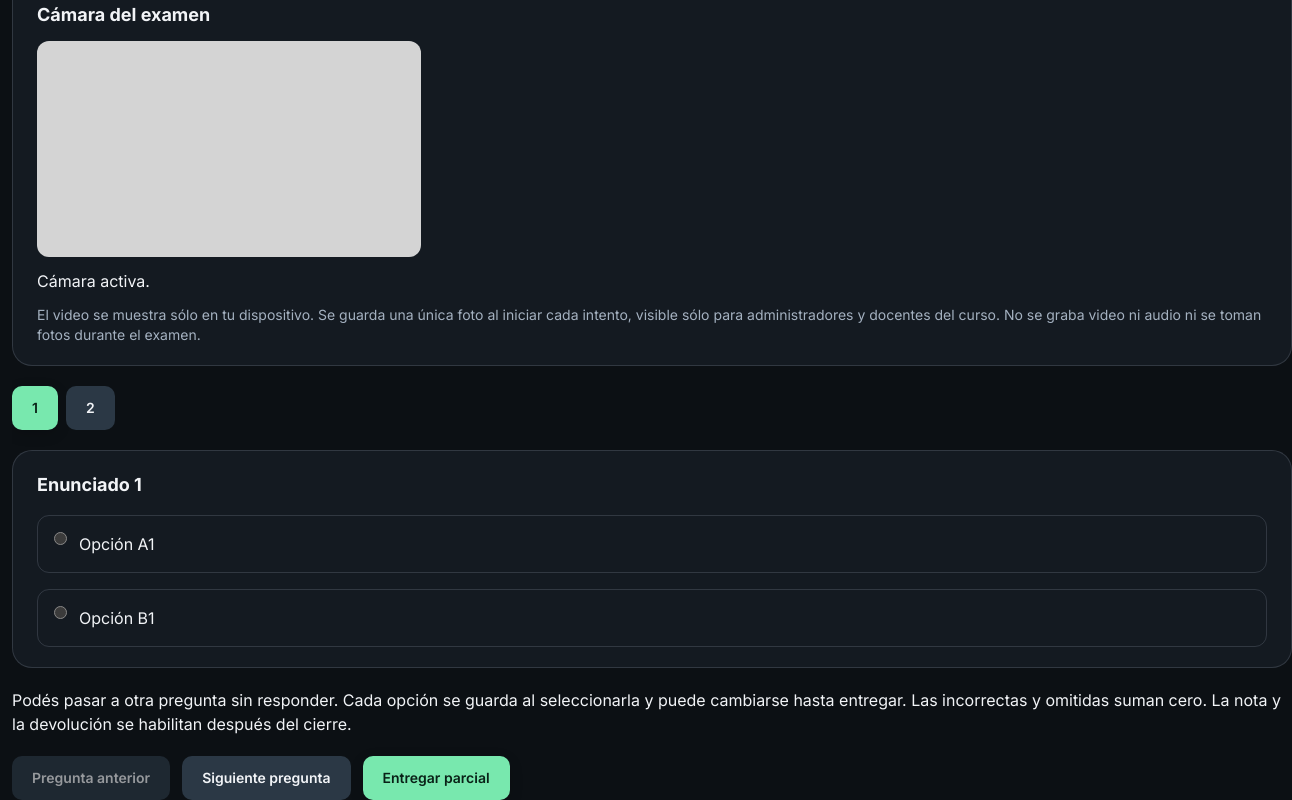
it: confirma la entrega anticipada sin mostrar nota, claves ni explicaciones
(page scrolled)
Click the button "Entregar parcial": (436, 778) [363,756,510,799]
(page scrolled)
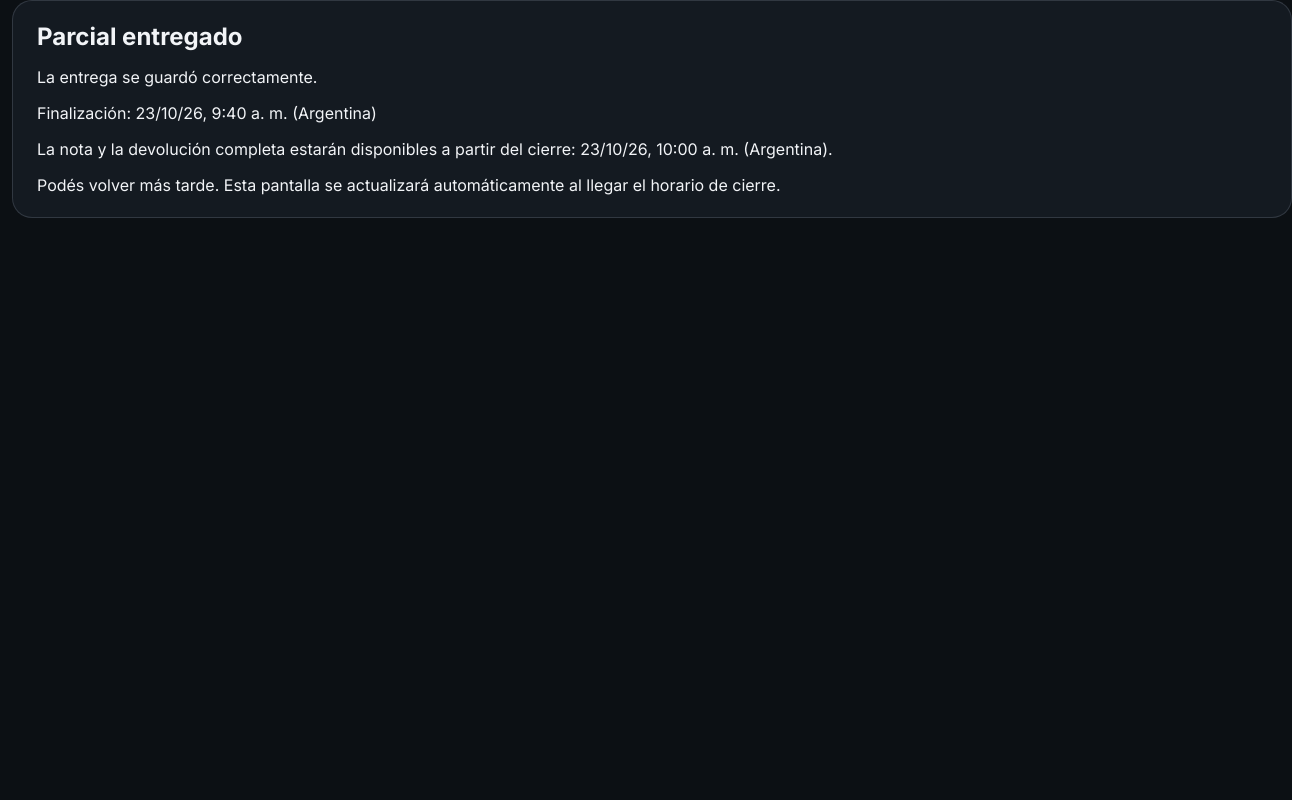
Now the heading "Parcial entregado" is shown, box [37,22,243,51]
Now the text "La nota y la devolución completa estarán disponibles a partir del cierre" is shown, box [37,139,580,159]
